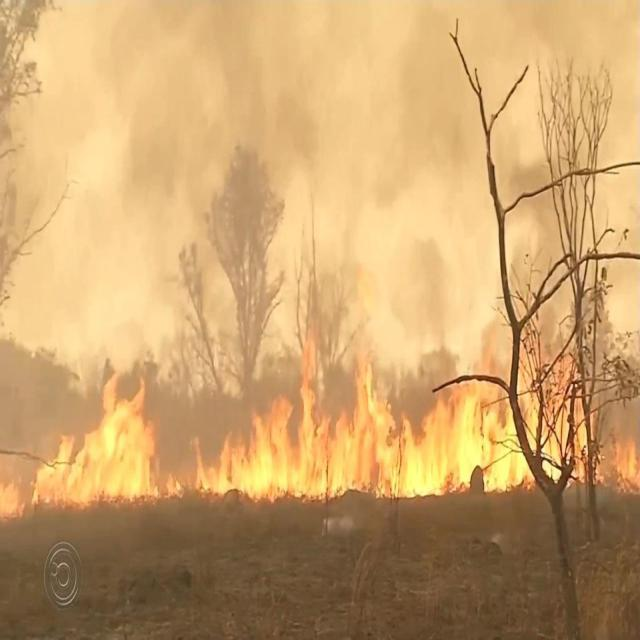Fire: (1, 320, 640, 518)
Smoke: (91, 1, 566, 403)
